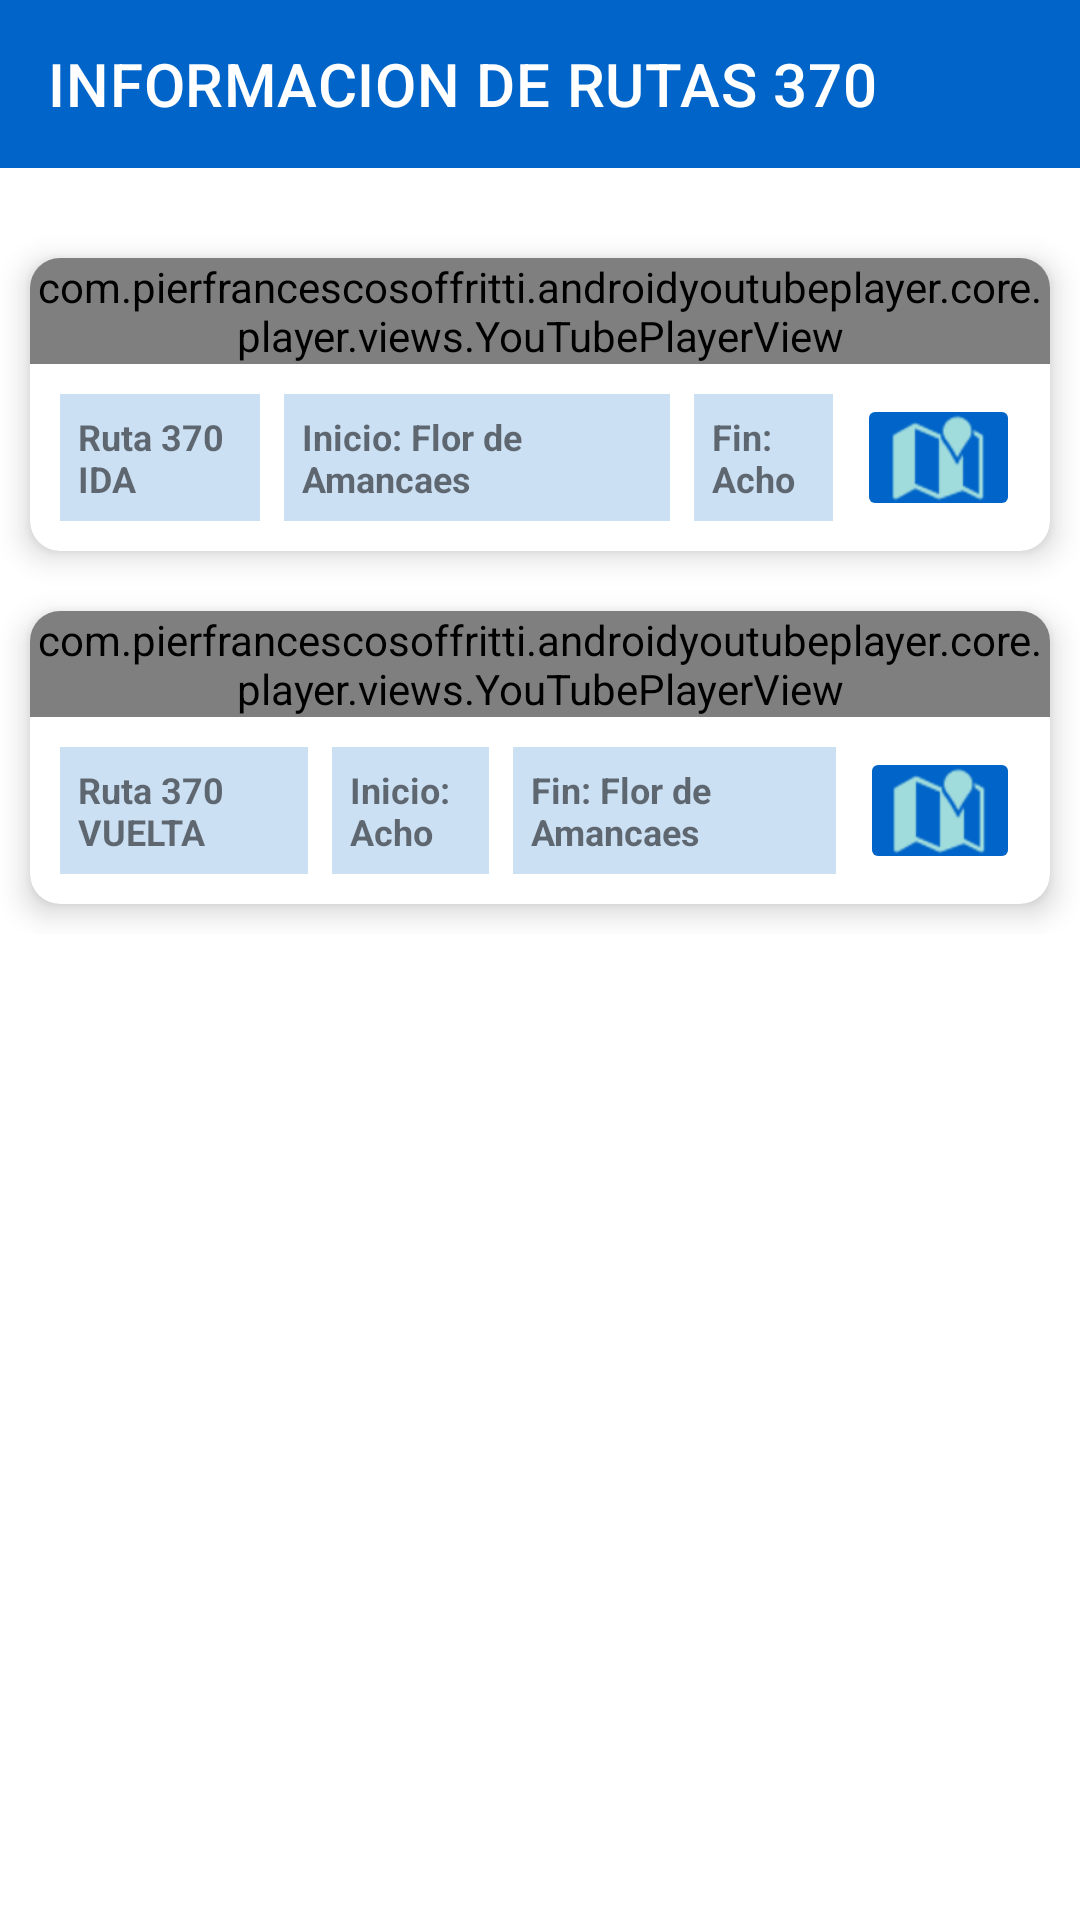

Screen size 1080w x 1920h. Icon name, then its center in pixels as [x,y]:
map: [938,457], [940,810]
